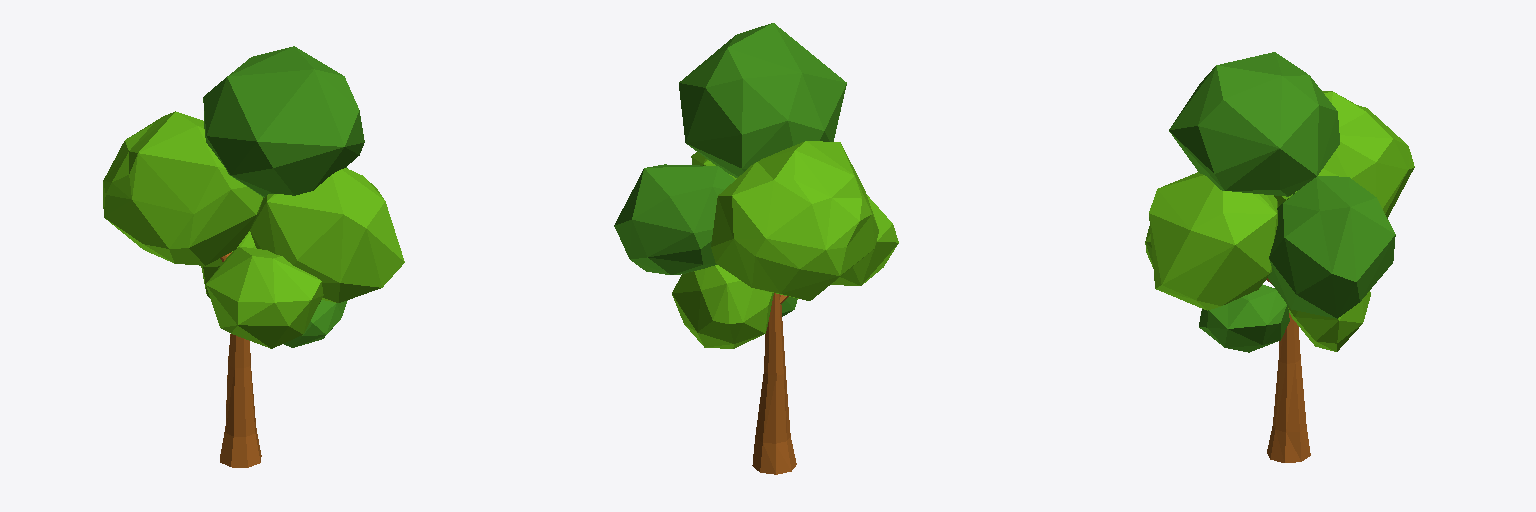
The model's file is tree_2.obj.
3 renders of one model, left to right at view 1: azimuth 30°, elevation 25°; view 2: azimuth 150°, elevation 25°; view 3: azimuth 270°, elevation 25°, orthographic.
Visible parts, largest first — view 1: Tree3; view 2: Tree3; view 3: Tree3.
Boxes of the visible parts, box(x1,y1,x2,y2) form: Tree3: box(103, 46, 404, 467); Tree3: box(614, 23, 898, 474); Tree3: box(1145, 52, 1414, 462).
Bounding box in the file's own units: 3.69 × 6.08 × 3.65.